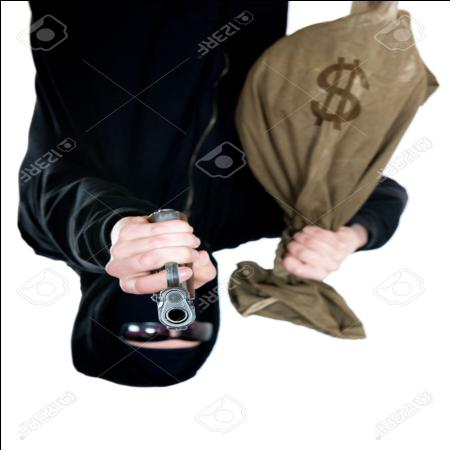Pistol: (147, 209, 204, 331)
